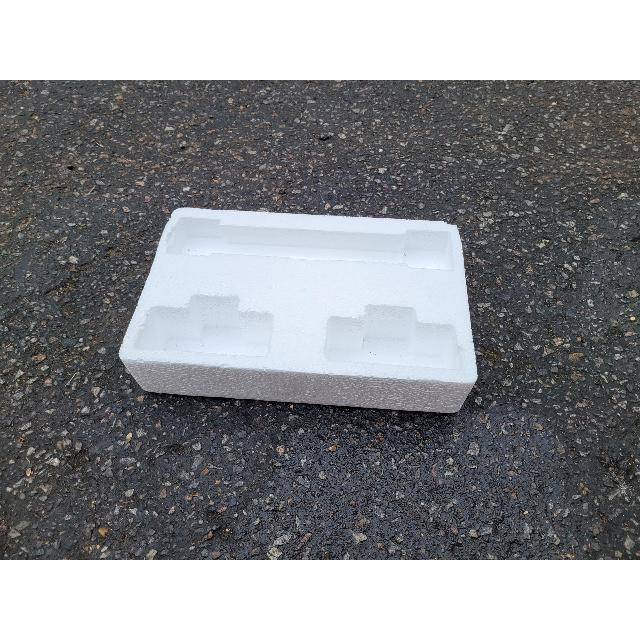Recipiente plastico: (120, 208, 478, 412)
